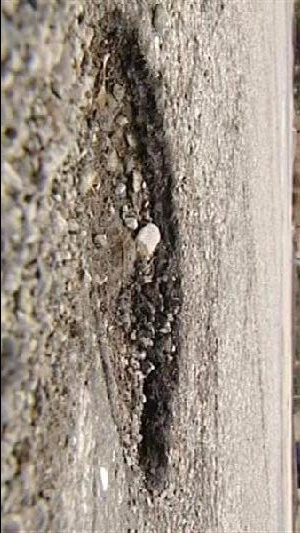pothole: (54, 7, 183, 497)
